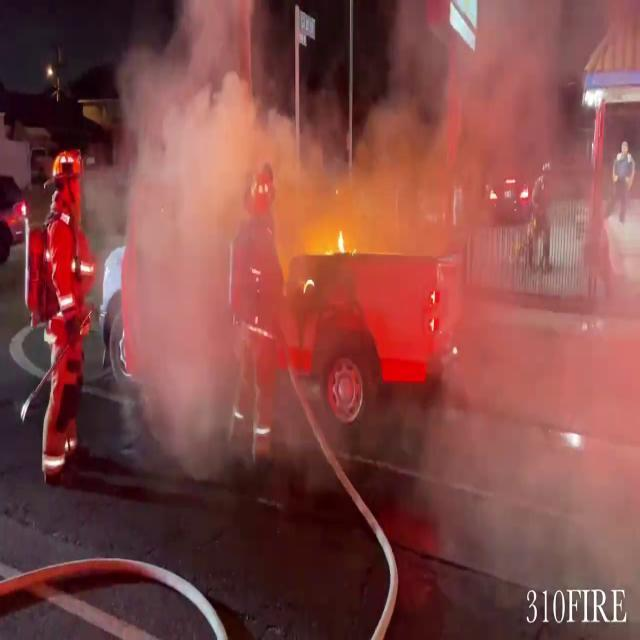Smoke: (88, 2, 582, 425)
